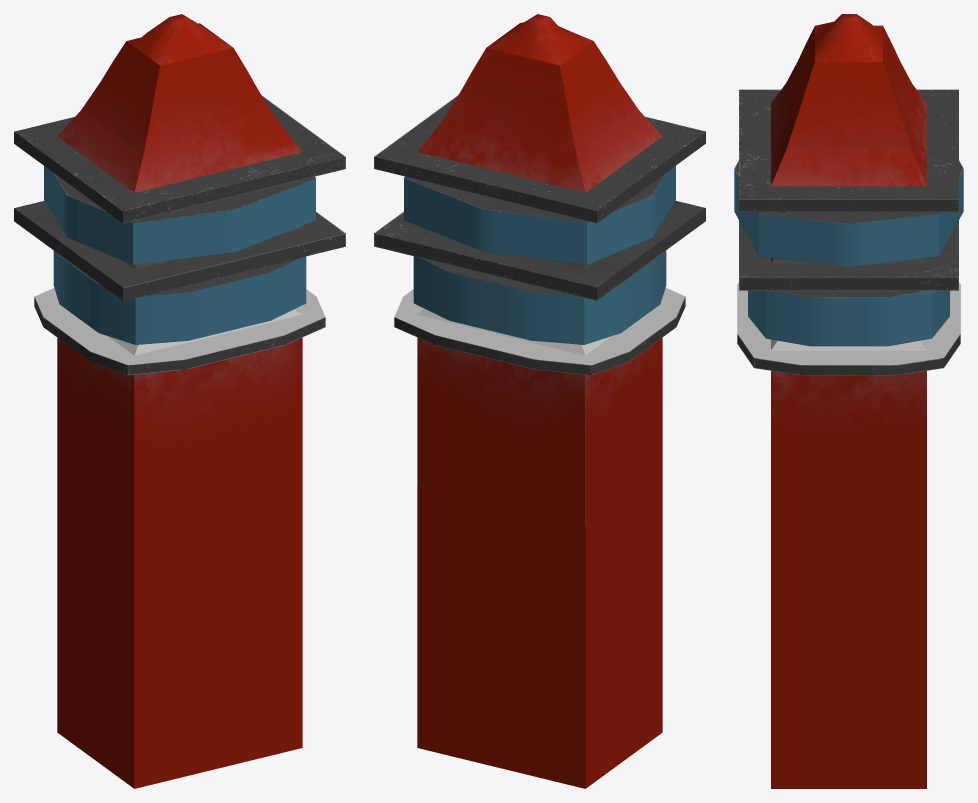
The model's file is ChaosZooCityMapTower10.fbx.
3 views of the same model, side by side, from view 1: azimuth 30°, elevation 25°; view 2: azimuth 150°, elevation 25°; view 3: azimuth 270°, elevation 25° (orthographic).
Visible parts, largest first — view 1: pCube96; view 2: pCube96; view 3: pCube96.
Boxes of the visible parts, box(x1,y1,x2,y2) form: pCube96: box(14, 14, 345, 788); pCube96: box(374, 14, 705, 788); pCube96: box(734, 14, 963, 788).
Size of the model in its own units: 67.2 by 205 by 58.46.
